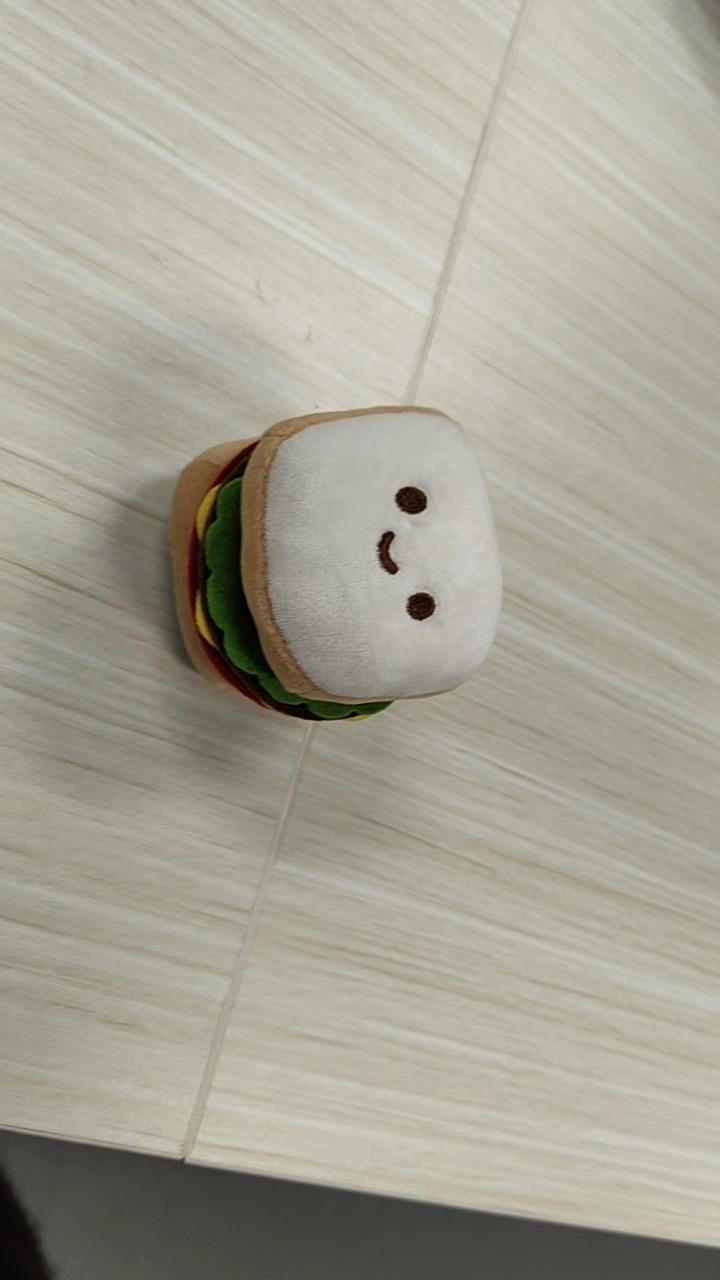objects: (167, 402, 503, 724)
